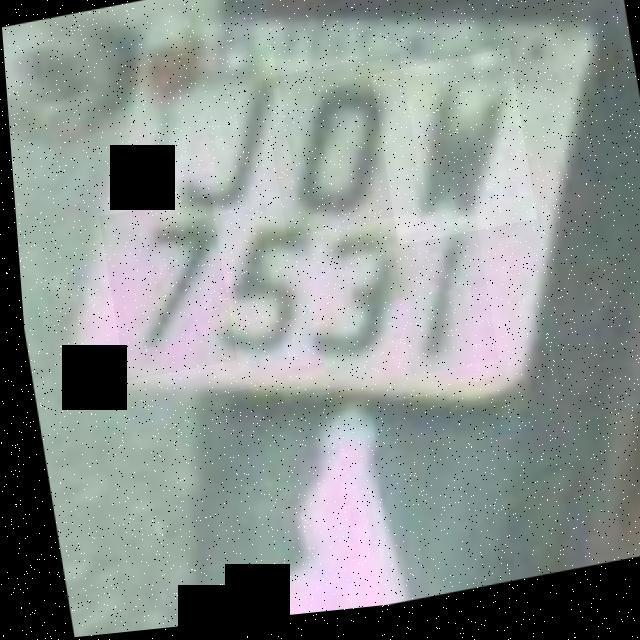1: (384, 230, 492, 385)
3: (256, 201, 428, 398)
5: (176, 197, 327, 372)
7: (94, 197, 232, 384)
J: (134, 41, 294, 229)
O: (259, 59, 422, 244)
W: (368, 57, 534, 254)
